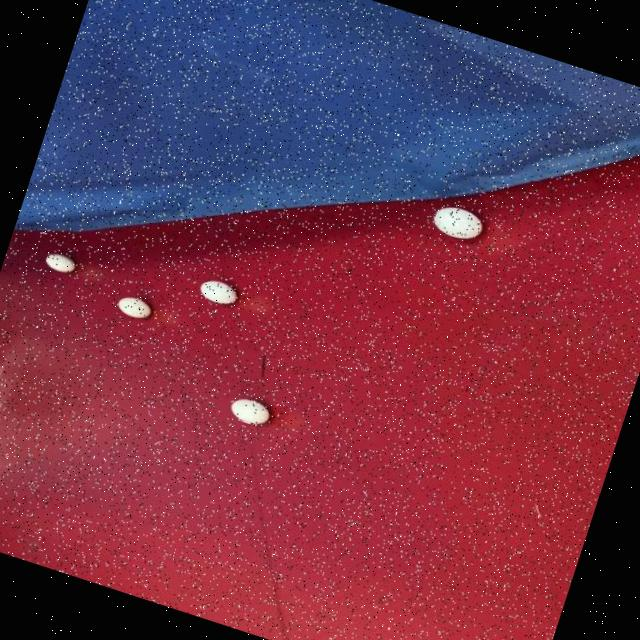ping-pong-ball: (426, 200, 488, 247), (226, 393, 274, 429), (194, 276, 240, 310), (112, 292, 154, 322), (42, 250, 78, 276)
